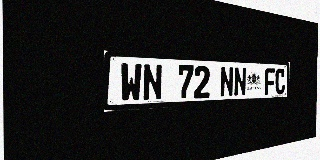2: (194, 65, 210, 99)
7: (177, 65, 194, 99)
C: (275, 68, 285, 94)
F: (265, 68, 275, 95)
N: (143, 64, 162, 101), (220, 66, 234, 97), (234, 67, 246, 97)
W: (120, 63, 142, 102)
